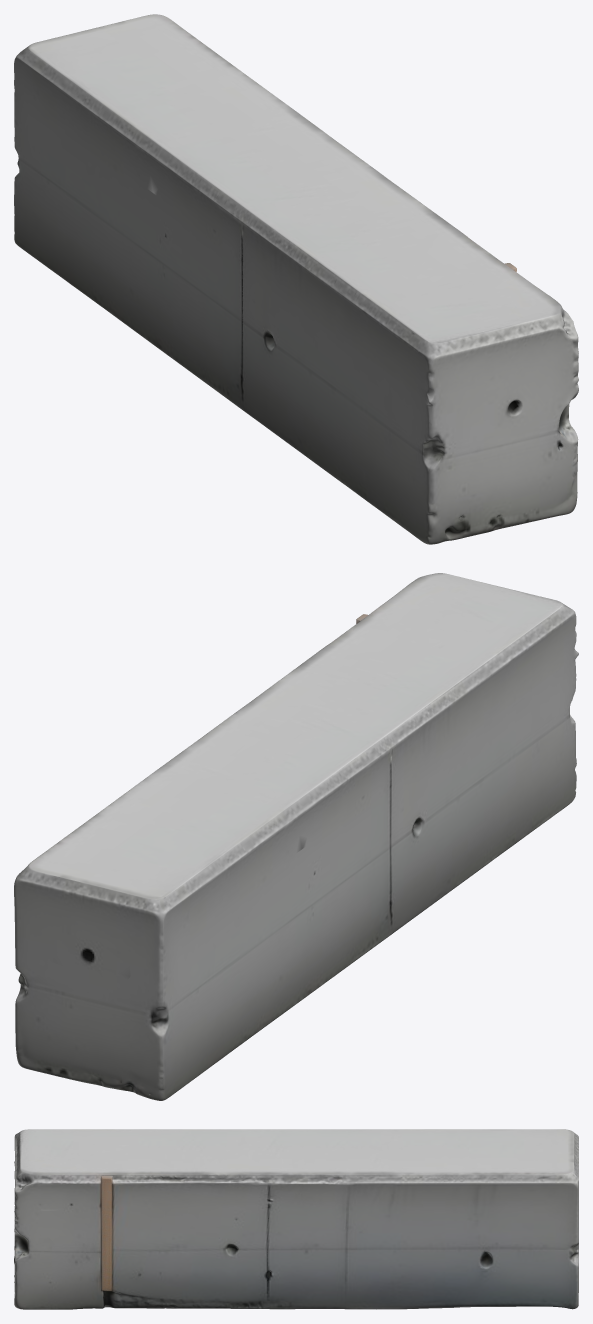
File: prop_wall_a.glb
3 views of the same model, one above another, from view 1: azimuth 30°, elevation 25°; view 2: azimuth 150°, elevation 25°; view 3: azimuth 270°, elevation 25° (orthographic). The views are drawn at different scales.
Parts seen in each view (by area): view 1: node_0; view 2: node_0; view 3: node_0.
Boxes of the visible parts, box(x1,y1,x2,y2) form: node_0: box(14, 14, 578, 544); node_0: box(14, 573, 578, 1100); node_0: box(14, 1129, 578, 1309).
Size of the model in its own units: 0.2418 by 0.3013 by 1.15.
Materials: 1 (1 with a texture image).
